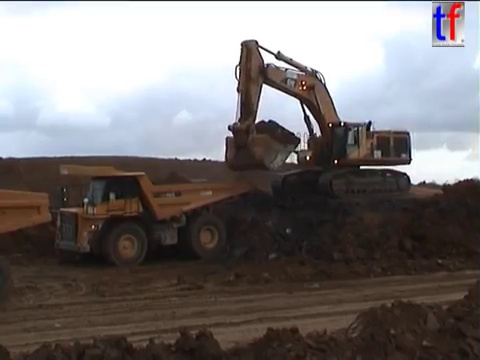excavator: (221, 36, 414, 203)
truck: (51, 162, 253, 267), (1, 181, 53, 304)
